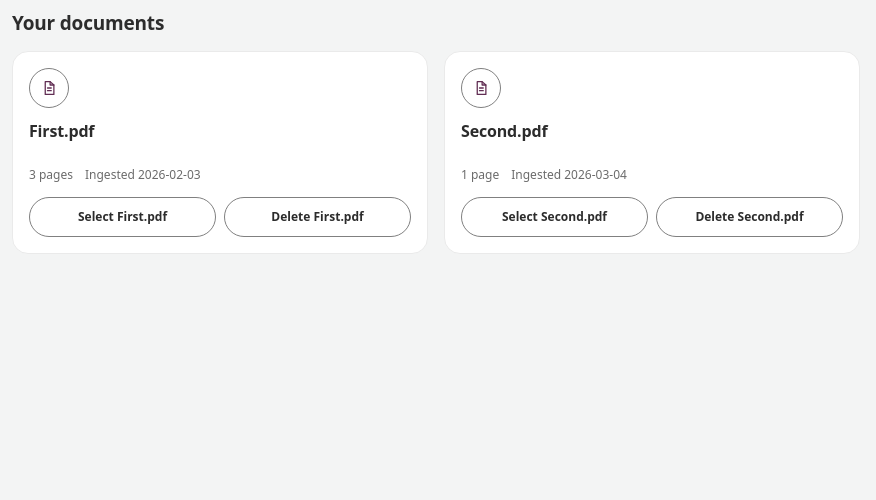
Test: DocumentList › renders a delete failure as a readable message and keeps the row
Click the button "Delete First.pdf": point(318, 217) [224, 197, 411, 237]
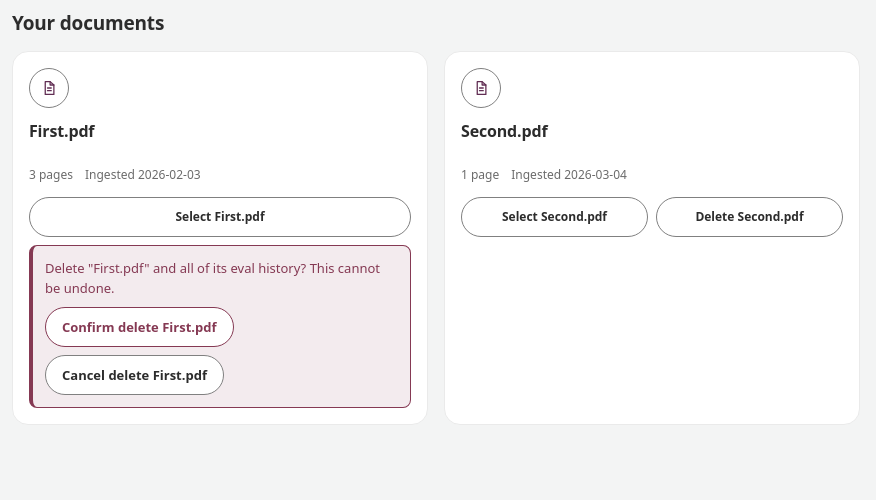
Click the button "Confirm delete First.pdf": point(139, 327) [45, 307, 234, 347]
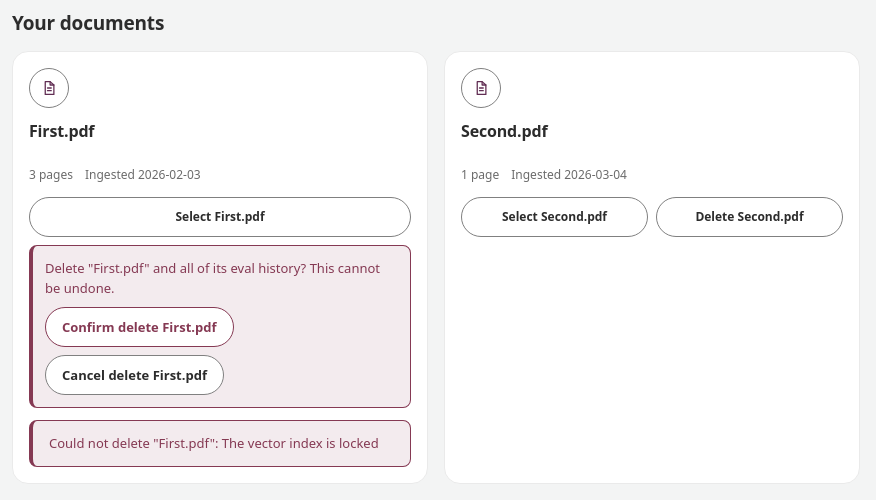
Expected: the heading "First.pdf" is shown, [29, 120, 94, 142]
Expected: the message shows "The vector index is locked", [49, 434, 379, 452]
